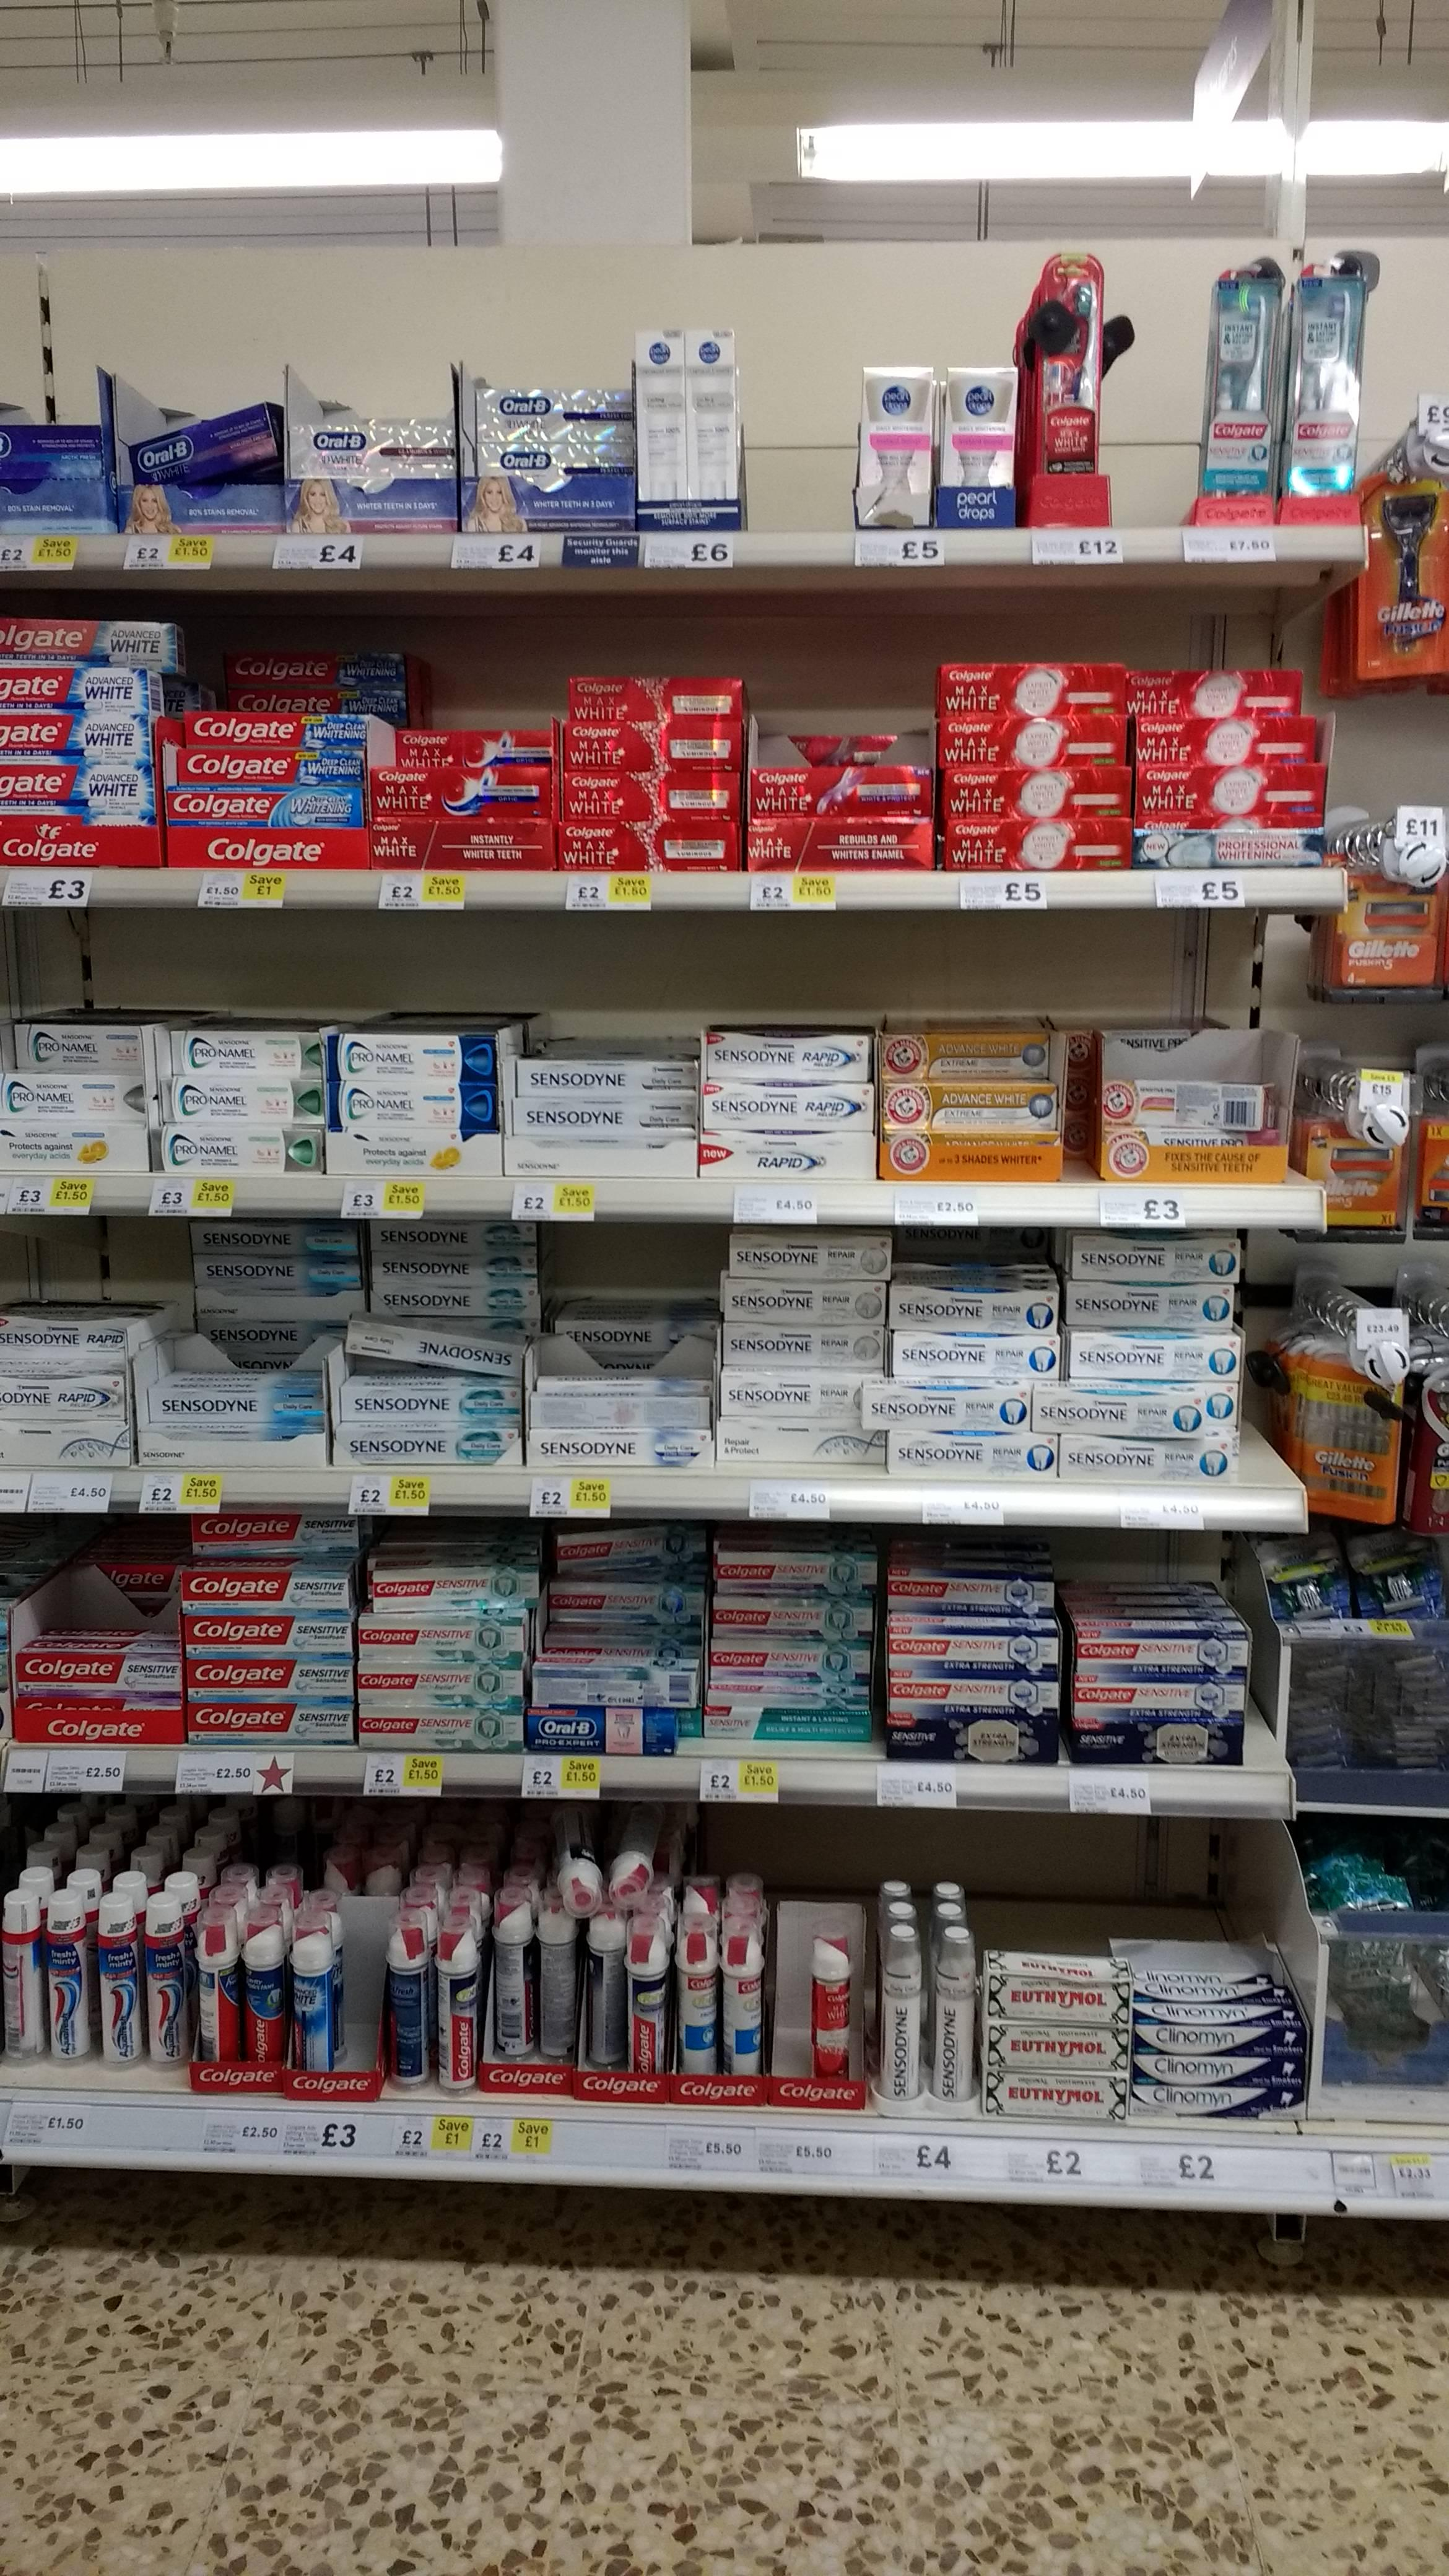empty: (745, 352, 853, 534), (1109, 375, 1191, 527), (334, 1928, 370, 2079), (775, 1939, 812, 2079)
misalignment: (844, 1369, 1224, 1453), (349, 1313, 533, 1392), (124, 402, 283, 487), (817, 1939, 862, 2081)
